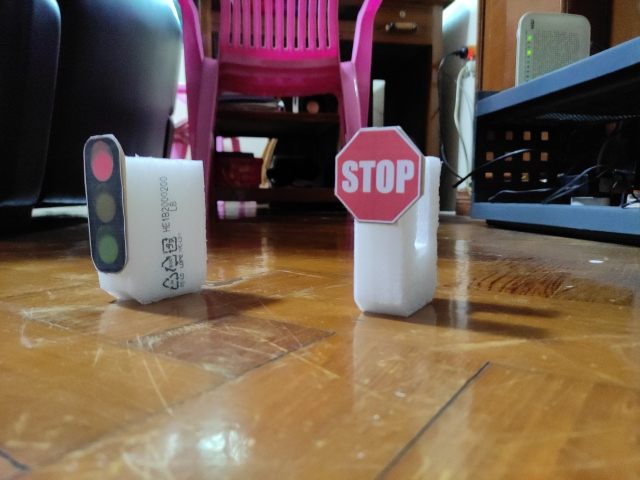Red Traffic Light: (84, 136, 130, 273)
Stop Sign: (334, 129, 422, 223)
